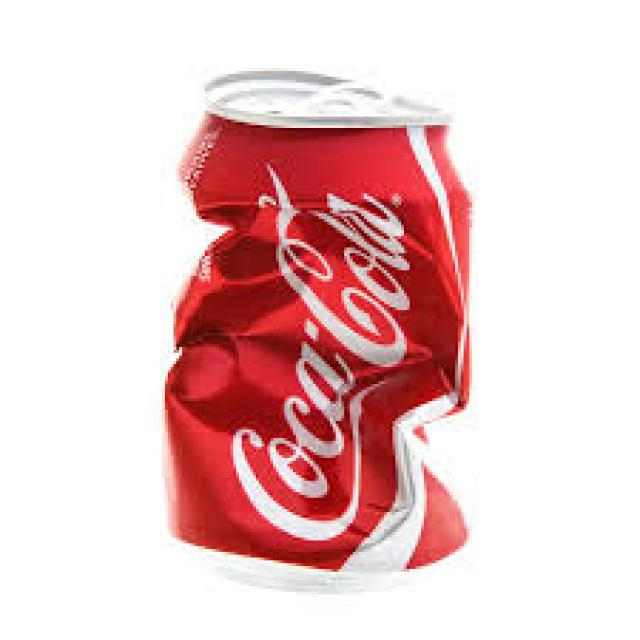can: (172, 62, 509, 609)
